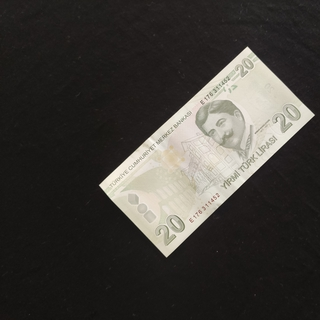20TLBack: (98, 45, 315, 258)
